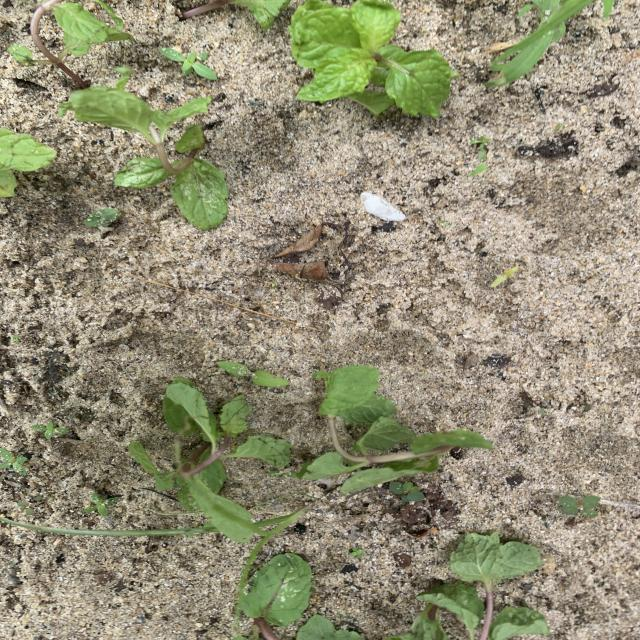crop: (130, 380, 291, 538), (59, 87, 228, 229), (298, 367, 491, 489), (291, 2, 458, 115), (387, 534, 548, 639), (8, 0, 134, 89)
weed: (484, 0, 592, 87), (238, 553, 311, 640), (216, 361, 290, 387), (161, 49, 216, 79), (558, 495, 599, 520), (84, 493, 116, 515), (389, 481, 423, 501), (0, 449, 27, 474), (86, 208, 119, 227), (33, 422, 67, 438), (491, 267, 518, 287), (471, 136, 489, 158), (471, 164, 487, 175), (350, 548, 363, 557)
